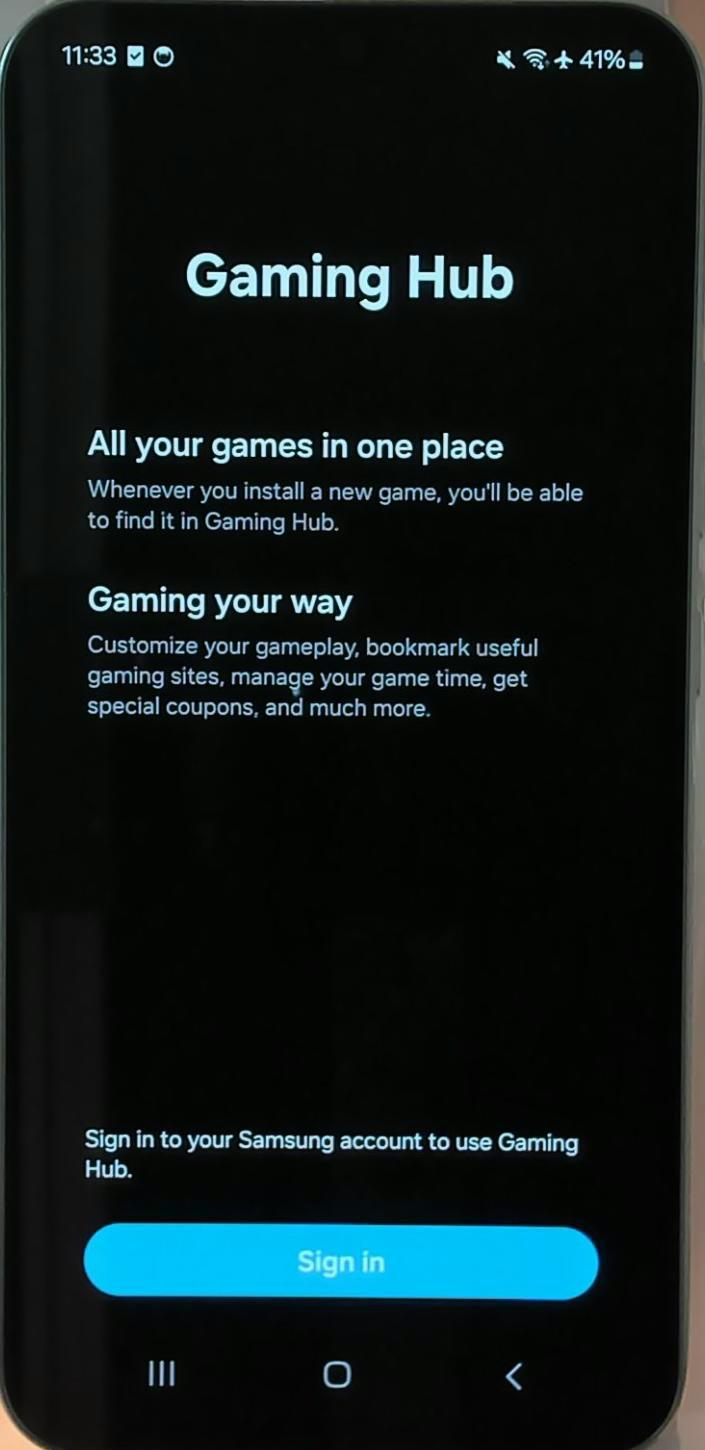CommunBotton: (82, 1214, 602, 1308), (480, 1348, 546, 1398), (134, 1346, 190, 1402), (314, 1348, 360, 1396)
